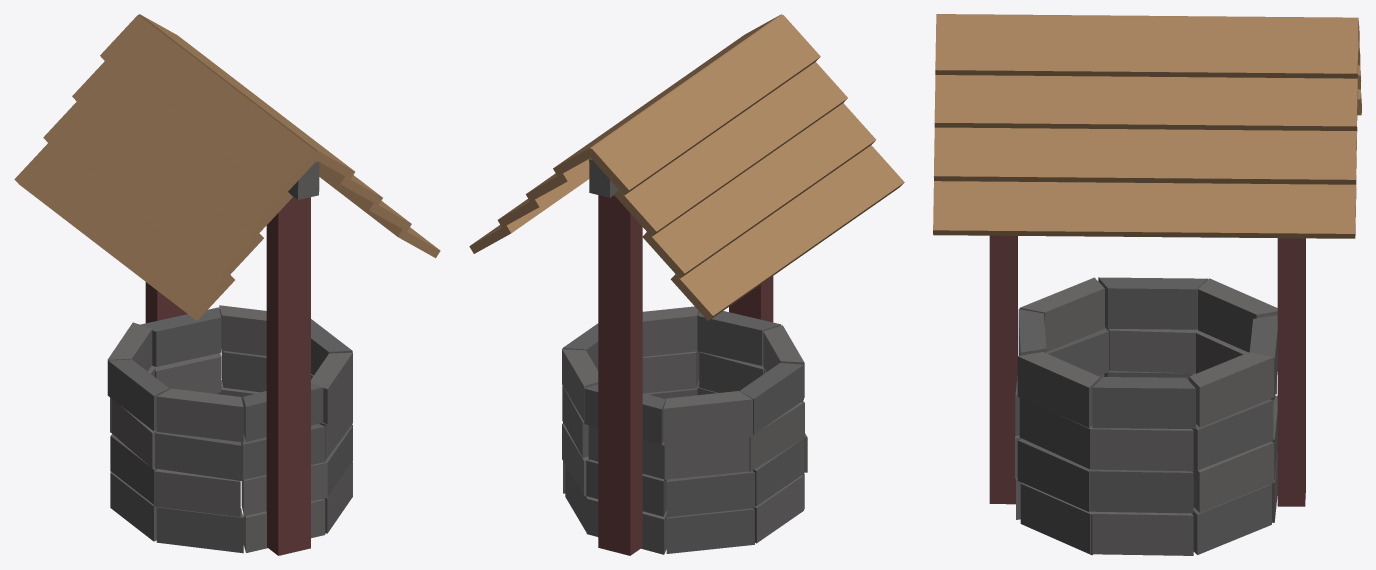
File: WaterWellLowPoly.fbx
3 views of the same model, side by side, from view 1: azimuth 30°, elevation 25°; view 2: azimuth 150°, elevation 25°; view 3: azimuth 270°, elevation 25° (orthographic). The views are drawn at different scales.
Visible parts, largest first — view 1: pCube43, pCube35, pCube42, polySurface30, polySurface29, polySurface31, polySurface32, polySurface36, polySurface28, polySurface14, polySurface35, polySurface20 (+15 smaller); view 2: pCube43, pCube36, pCube42, polySurface4, polySurface3, polySurface1, polySurface2, polySurface24, polySurface28, polySurface20, polySurface18, polySurface27 (+15 smaller); view 3: pCube42, pCube36, pCube35, polySurface12, polySurface28, polySurface34, polySurface33, polySurface11, polySurface14, polySurface20, polySurface27, polySurface15 (+13 smaller).
Boxes of the visible parts, x1,y1,x2,y2 form: pCube43: [14, 14, 319, 320]; pCube35: [266, 195, 310, 555]; pCube42: [139, 14, 440, 258]; polySurface30: [156, 388, 243, 442]; polySurface29: [155, 432, 241, 480]; polySurface31: [154, 469, 240, 516]; polySurface32: [156, 507, 243, 553]; polySurface36: [140, 307, 221, 366]; polySurface28: [108, 359, 169, 430]; polySurface14: [219, 305, 266, 355]; polySurface35: [151, 353, 221, 393]; polySurface20: [311, 352, 352, 424]; pCube43: [587, 15, 904, 320]; pCube36: [598, 195, 642, 555]; pCube42: [469, 14, 781, 253]; polySurface4: [663, 391, 753, 444]; polySurface3: [666, 471, 755, 517]; polySurface1: [666, 508, 754, 553]; polySurface2: [664, 435, 752, 479]; polySurface24: [697, 311, 781, 365]; polySurface28: [739, 363, 803, 434]; polySurface20: [642, 306, 699, 356]; polySurface18: [642, 350, 699, 393]; polySurface27: [749, 402, 804, 471]; pCube42: [933, 14, 1358, 238]; pCube36: [1277, 238, 1305, 506]; pCube35: [989, 235, 1017, 504]; polySurface12: [1092, 377, 1195, 428]; polySurface28: [1098, 277, 1207, 329]; polySurface34: [1090, 511, 1193, 555]; polySurface33: [1090, 469, 1193, 513]; polySurface11: [1090, 427, 1193, 471]; polySurface14: [1189, 352, 1274, 427]; polySurface20: [1017, 352, 1100, 427]; polySurface27: [1105, 326, 1199, 373]; polySurface15: [1192, 441, 1274, 512].
Size of the model in its own units: 3.49 by 5.59 by 4.49.
